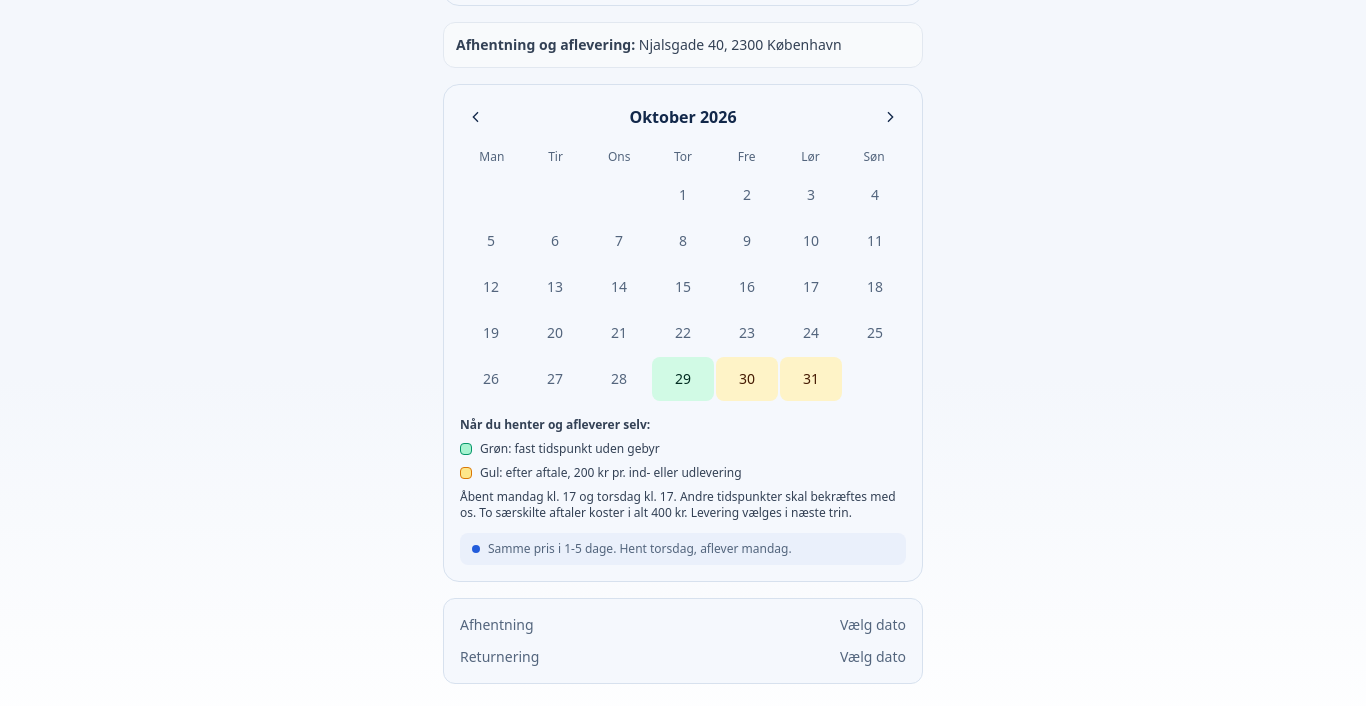
Test: Levering og afhentning i bookingen › viser levering og begge veje, men ikke returafhentning alene
The image size is (1366, 706).
(page scrolled)
Click the button "30". click: (747, 379)
box: [716,357,778,401]
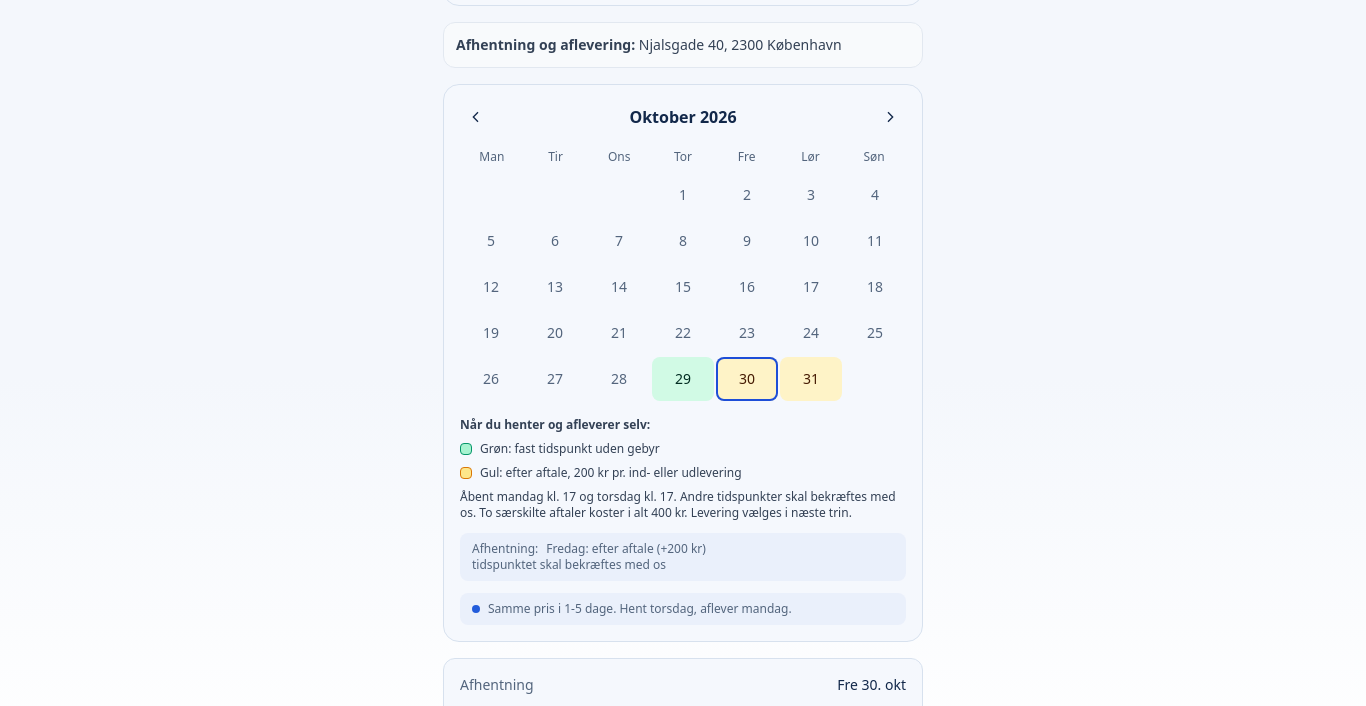
Click the button named "Næste måned". click: (890, 117)
box: [874,101,906,133]
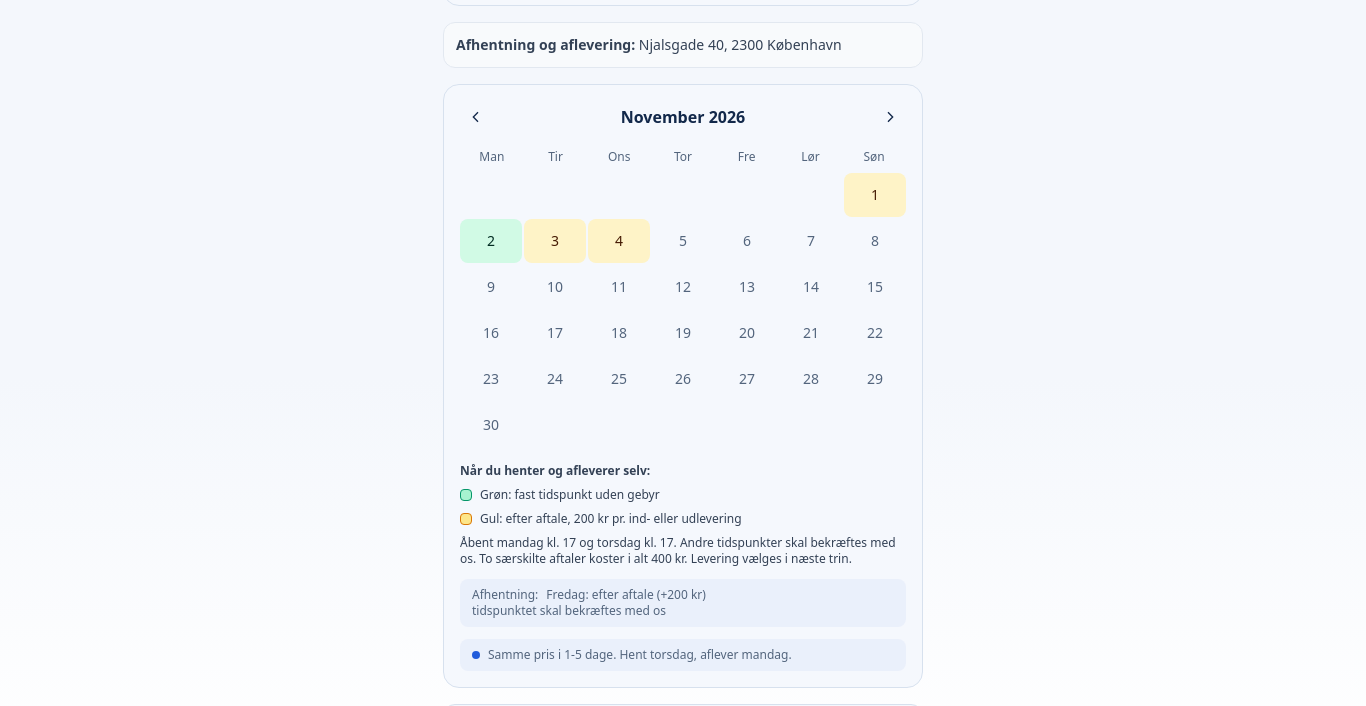
Click the button "2". click: (491, 241)
box: [460,219,522,263]
(page scrolled)
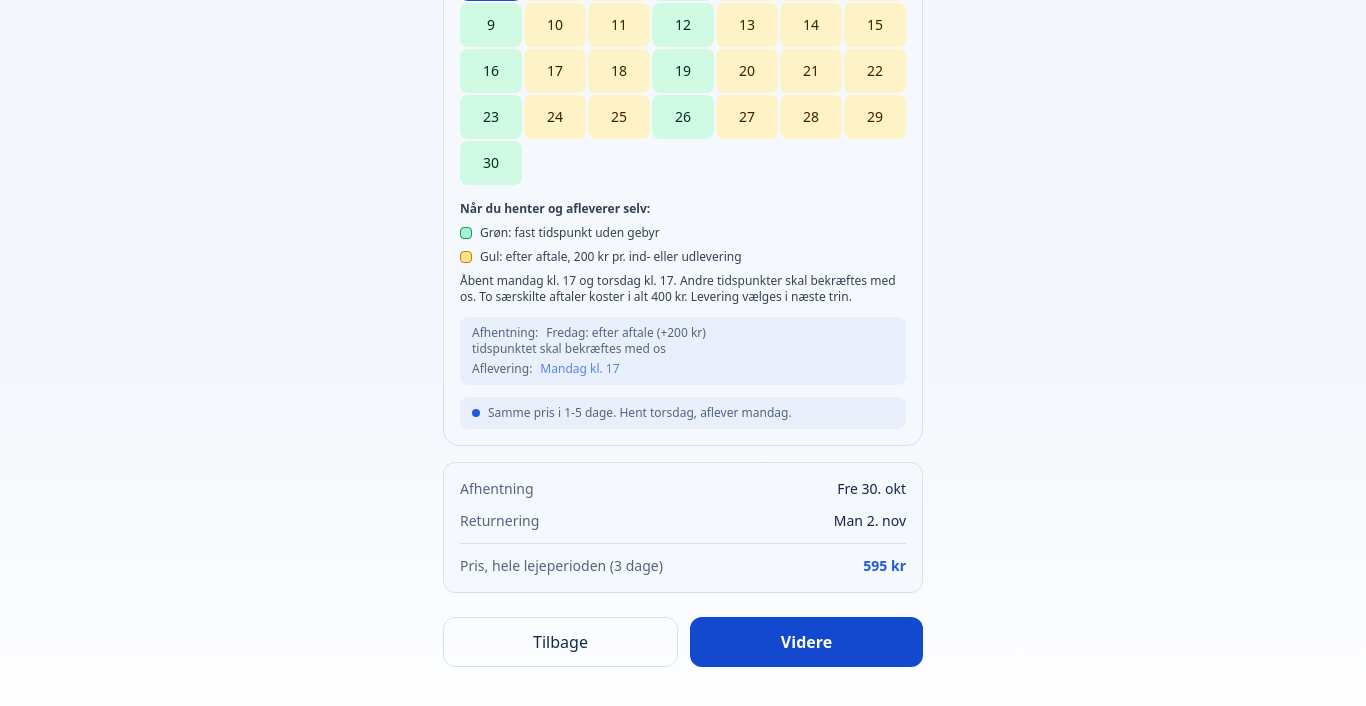
Result: the button "Videre" is enabled
Click the button "Videre". click: (806, 642)
box: [690,617,923,667]
(page scrolled)
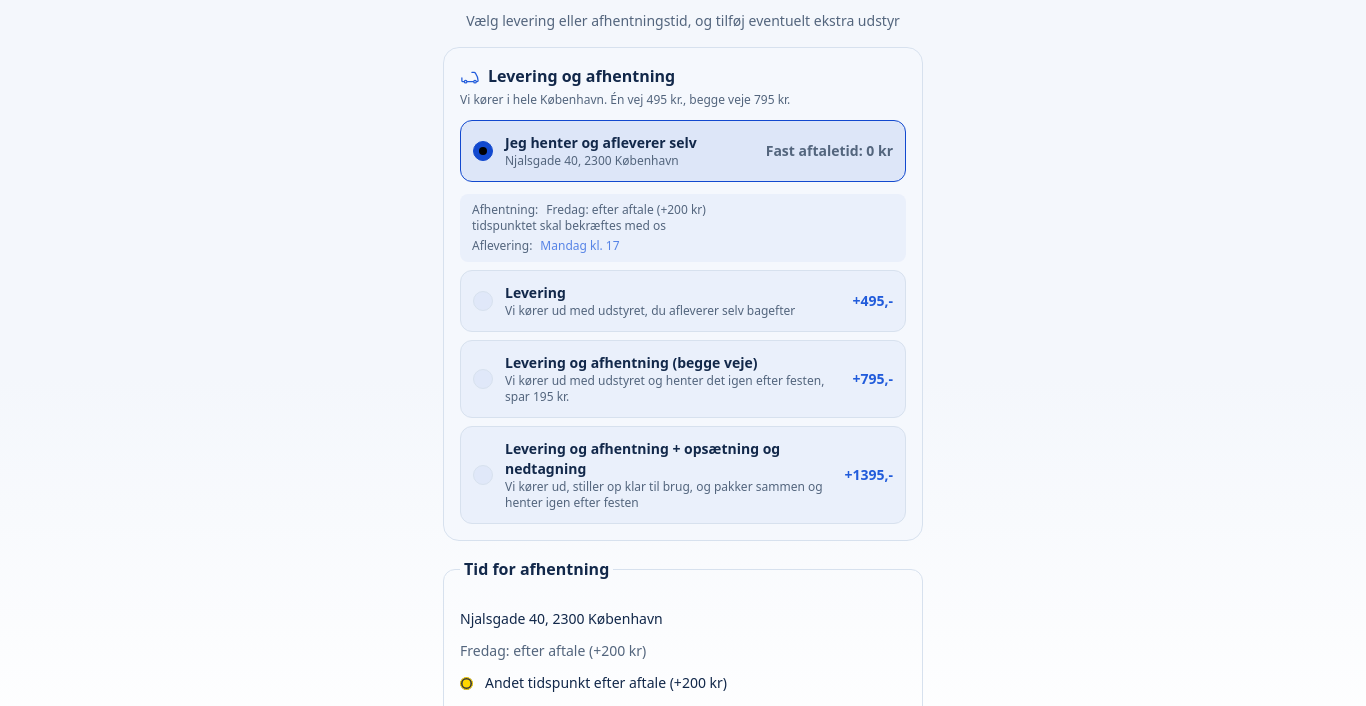
Result: the heading "Levering og afhentning" is shown at [488,64,675,88]
Result: the text "Levering" is shown at [505,283,566,302]
Result: the text "Levering og afhentning (begge veje)" is shown at [505,353,758,372]
